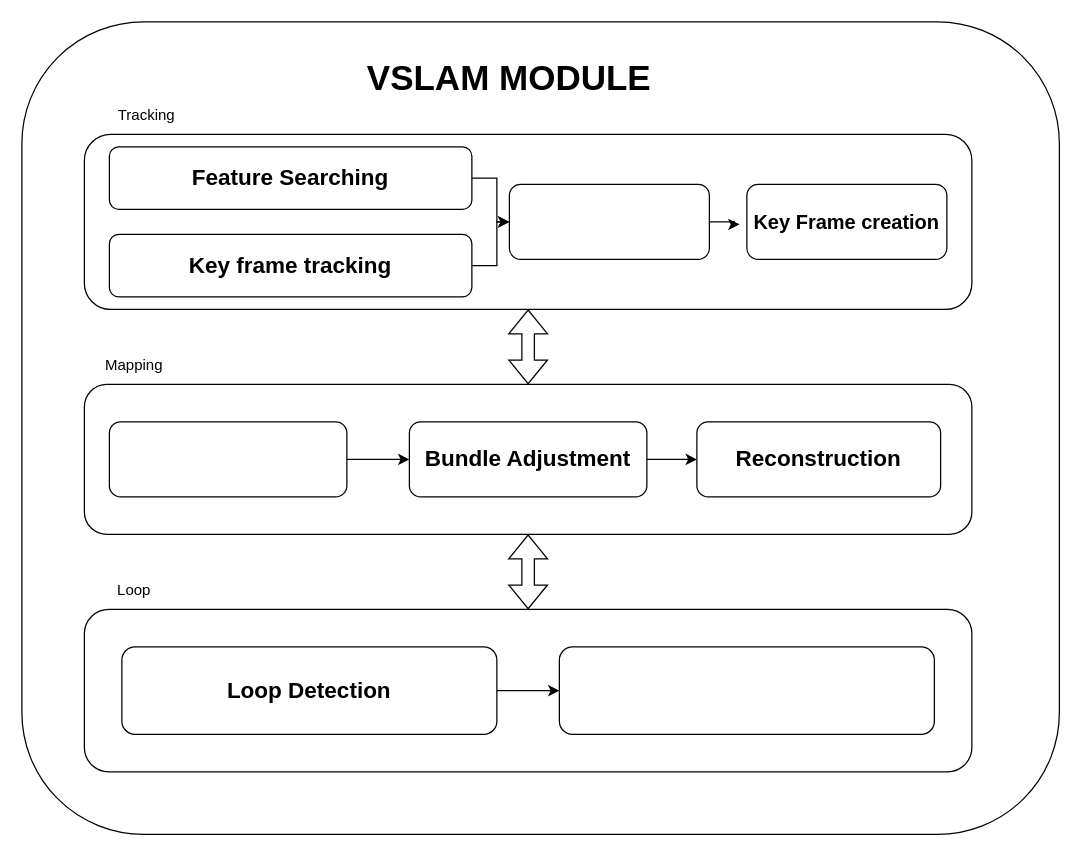
Some shapes in this 1081 by 856 pixel diagram are drawn without their labels. The shapes that lost their labels are listed below. From the top down, each one's box as (x1, y1, x2, y2) in pixels, then its label:
(508, 183, 709, 259): Pose Estimation
(108, 421, 347, 497): Data Association
(558, 646, 934, 734): Loop Closing
